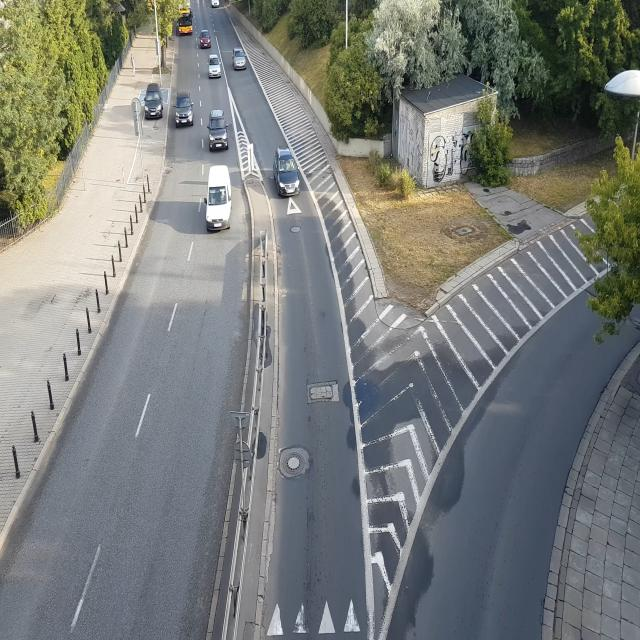bus: (177, 14, 195, 36)
car: (205, 166, 234, 232), (274, 148, 302, 198), (207, 110, 230, 152), (143, 88, 165, 120), (174, 94, 195, 127), (208, 56, 223, 79), (232, 50, 247, 70), (198, 30, 211, 48), (210, 0, 222, 8)
